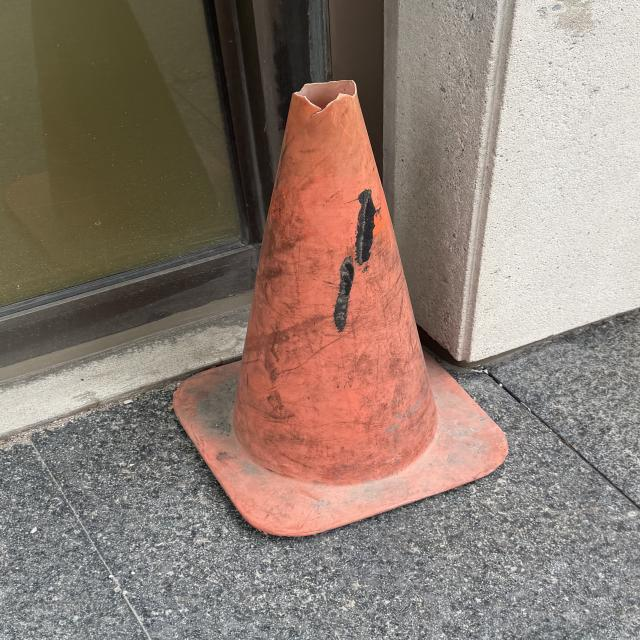Traffic Cone: (170, 79, 512, 538)
